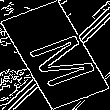M_NE: (14, 23, 96, 87)
